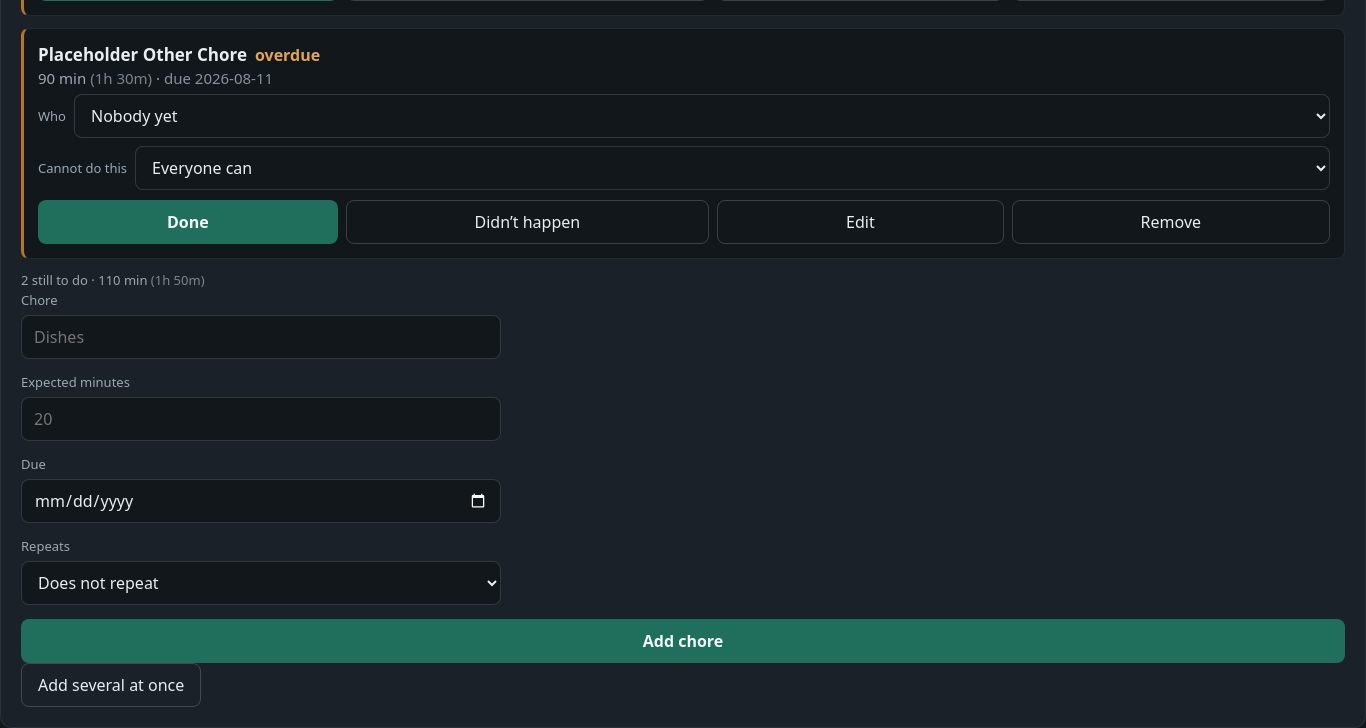
#53 — the repeat is set where the chore is created › reveals the weekday picker only for weekly
The image size is (1366, 728).
(page scrolled)
Select "Weekly, on…" in the dropdown named "how often this chore repeats" at [261, 582], box [21,560,501,604]
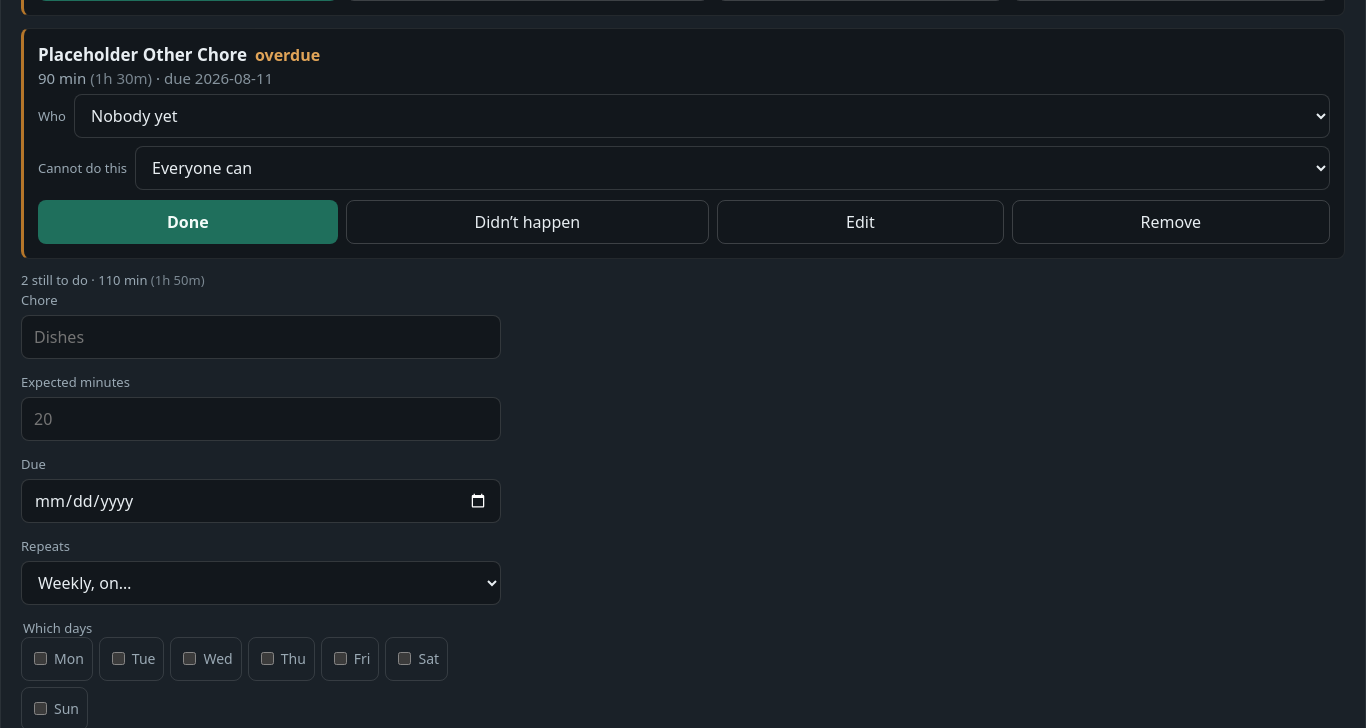
Result: the checkbox named "repeat on mon" is shown at [34,652,47,665]
Select "Every day" in the dropdown named "how often this chore repeats" at [261, 582], box [21,560,501,604]
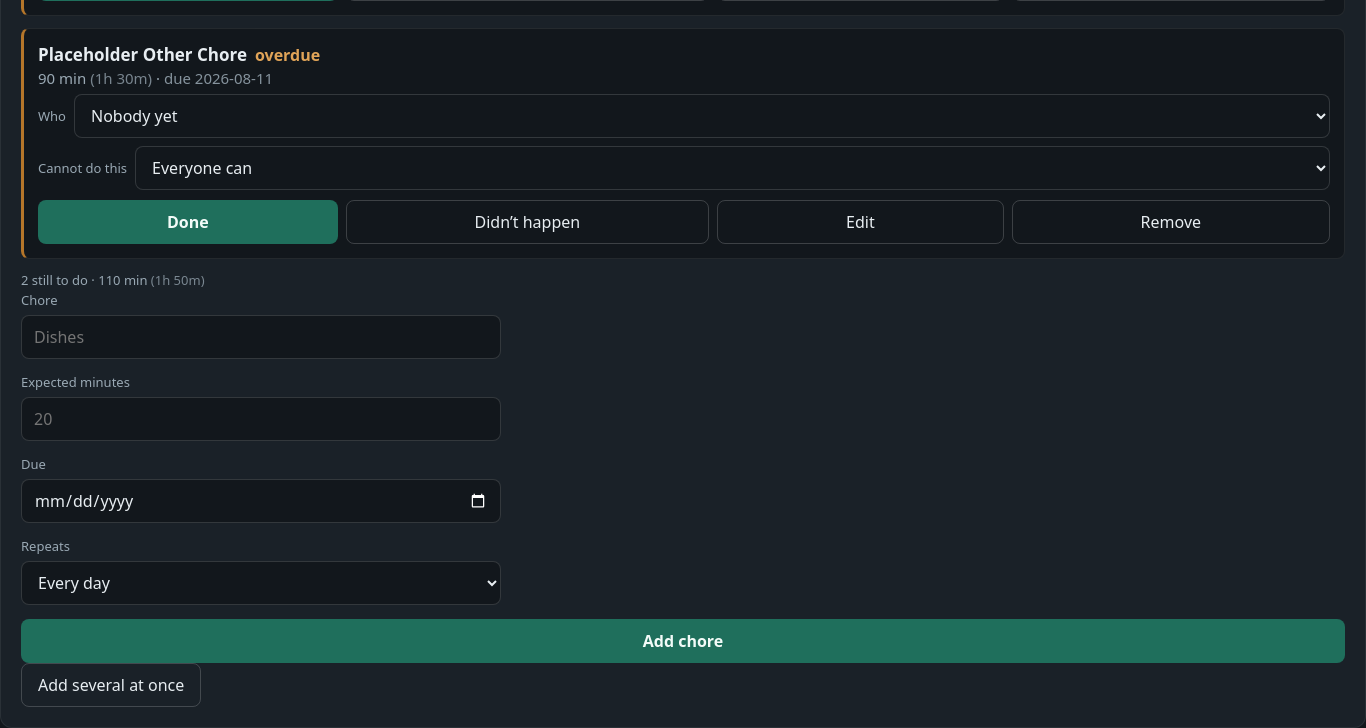
Result: the checkbox labelled "repeat on mon" is gone
